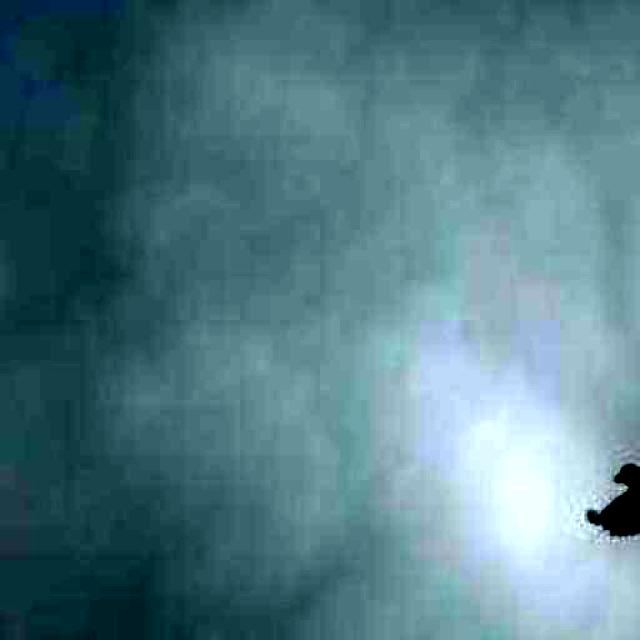airplane: (588, 344, 640, 544)
